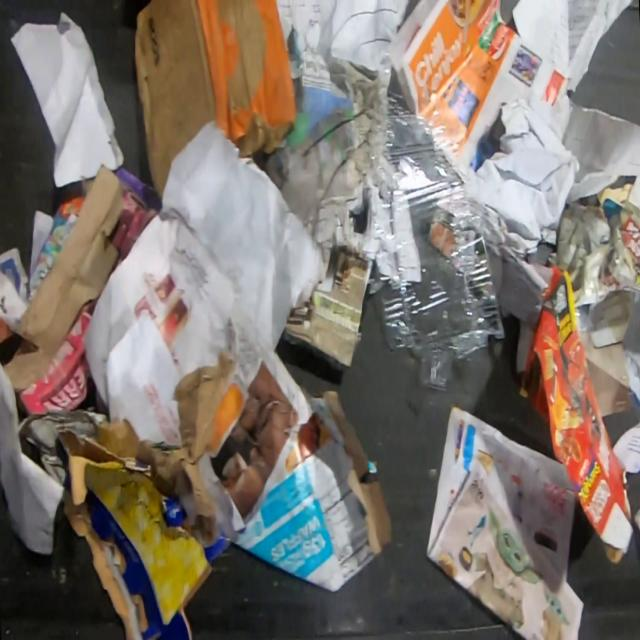cardboard: (18, 345, 248, 640), (0, 159, 162, 417), (511, 264, 636, 567), (132, 0, 296, 200), (235, 388, 394, 593), (388, 0, 571, 170), (544, 199, 640, 307), (586, 290, 634, 416)
rigid_plastic: (368, 49, 508, 394)
